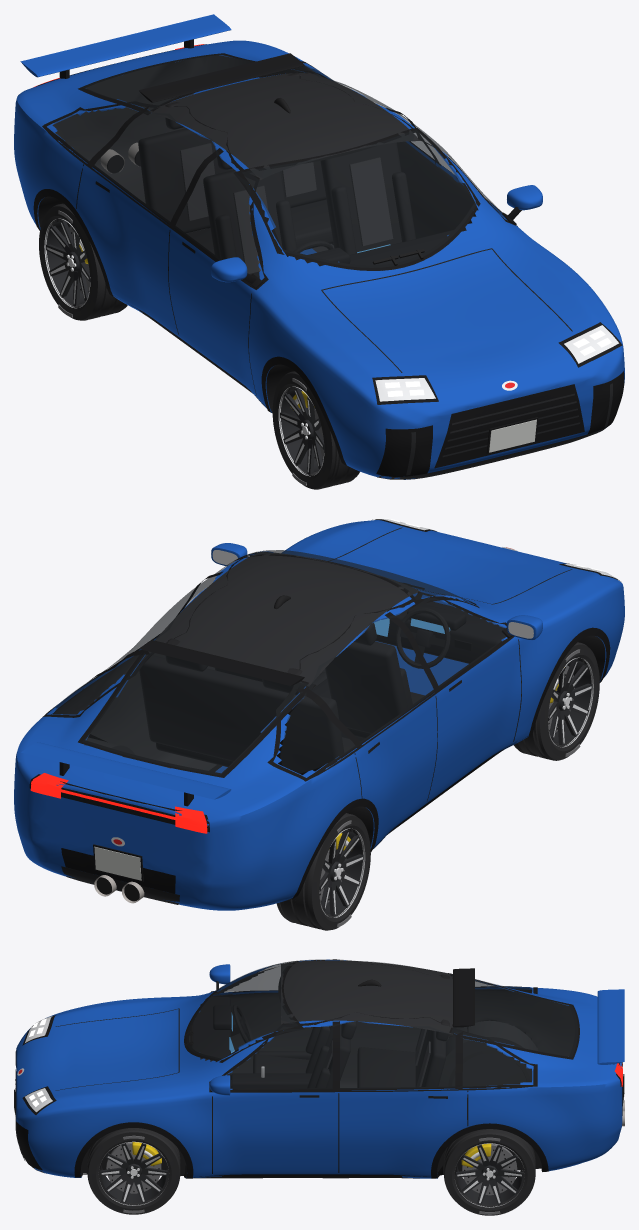
File: cayennegt.glb
The picture shows the model from 3 angles, top to bottom: view 1: azimuth 30°, elevation 25°; view 2: azimuth 150°, elevation 25°; view 3: azimuth 270°, elevation 25°; orthographic projection. The views are drawn at different scales.
Visible parts, largest first — view 1: Body, Wheel_RR, Wheel_FR; view 2: Body, Wheel_RR, Wheel_FR; view 3: Body, Wheel_FL, Wheel_RL, Wheel_RR.
Part boxes in pixels (x1,y1,x2,y2): Body: [14, 14, 624, 479]; Wheel_RR: [39, 203, 127, 320]; Wheel_FR: [272, 371, 359, 489]; Body: [14, 518, 624, 910]; Wheel_RR: [276, 813, 370, 930]; Wheel_FR: [513, 642, 599, 760]; Body: [14, 959, 624, 1178]; Wheel_FL: [87, 1128, 180, 1214]; Wheel_RL: [444, 1129, 535, 1215]; Wheel_RR: [448, 1050, 530, 1086].
Size of the model in its own units: 2.36 by 1.67 by 4.98.
